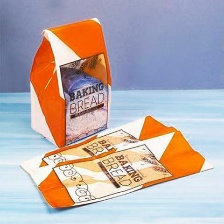snack: (11, 109, 218, 214), (23, 11, 115, 153)
